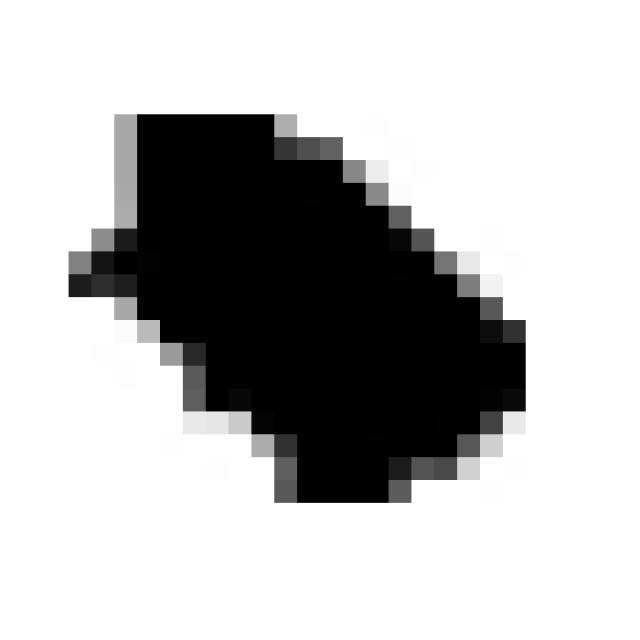0 -zero-: (55, 85, 548, 542)
